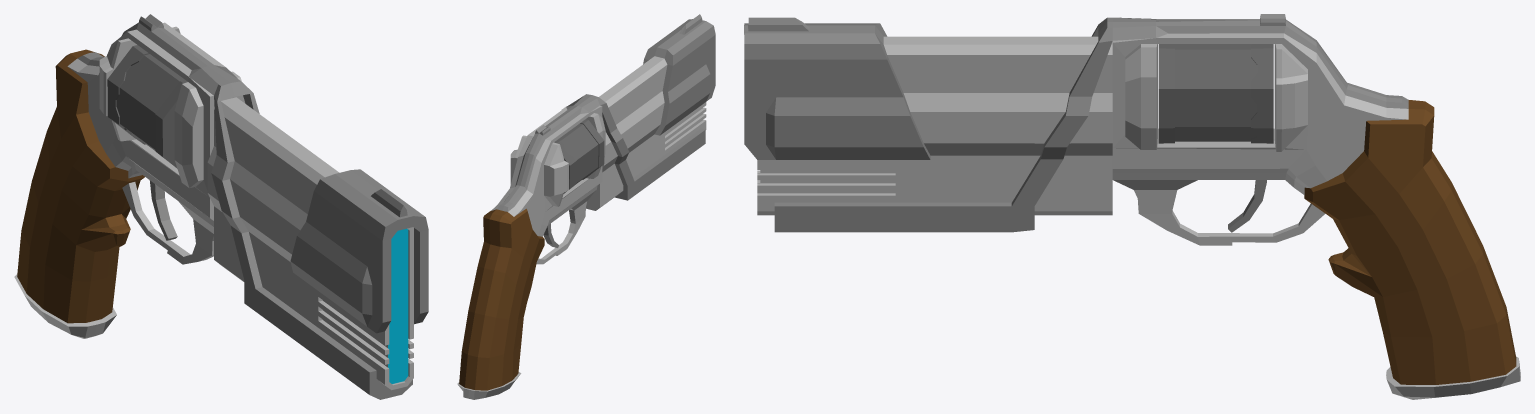
Rendered from RicoRev.fbx.
3 renders of one model, left to right at view 1: azimuth 30°, elevation 25°; view 2: azimuth 150°, elevation 25°; view 3: azimuth 270°, elevation 25°, orthographic. The views are drawn at different scales.
Parts seen in each view (by area): view 1: Cube.001; view 2: Cube.001; view 3: Cube.001.
Boxes of the visible parts, x1,y1,x2,y2 form: Cube.001: (14,14,428,399); Cube.001: (457,14,715,399); Cube.001: (744,14,1520,399).
Bounding box in the file's own units: 37.91 × 153 × 280.
